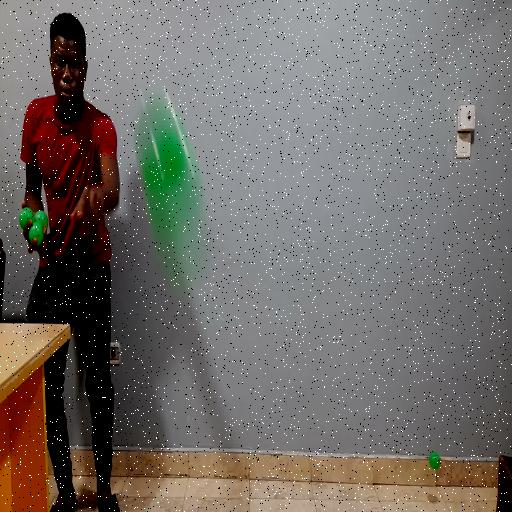plastic-ball: (136, 90, 202, 232)
